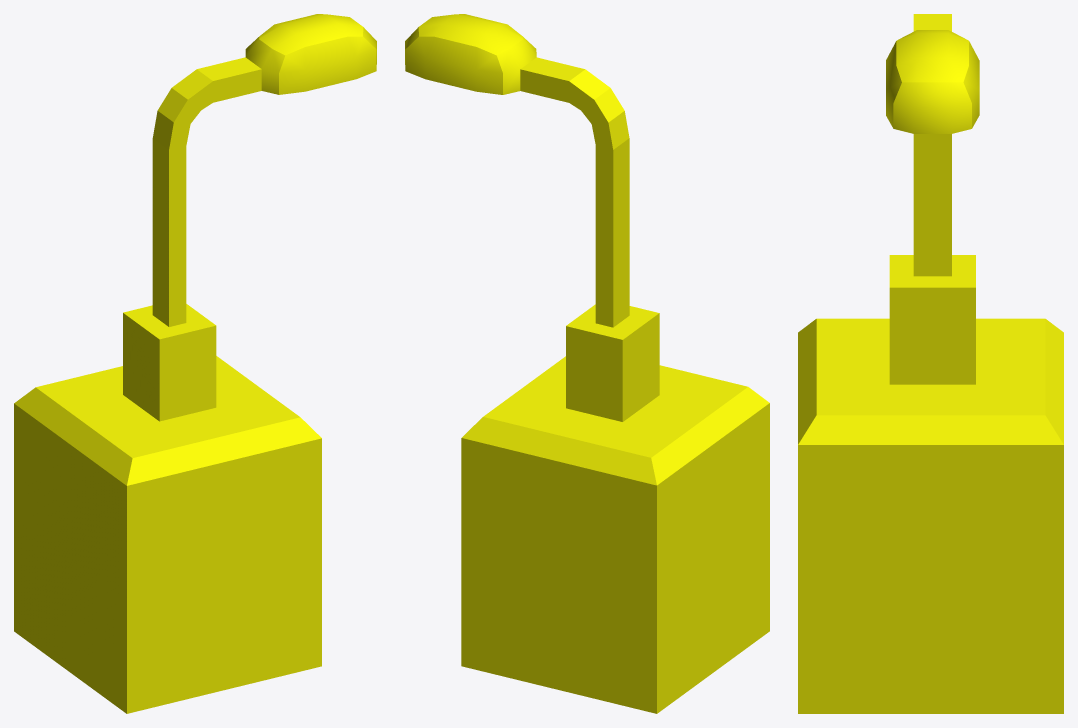
File: parking_obstacle02.glb
The picture shows the model from 3 angles, left to right: view 1: azimuth 30°, elevation 25°; view 2: azimuth 150°, elevation 25°; view 3: azimuth 270°, elevation 25°; orthographic projection. The views are drawn at different scales.
Visible parts, largest first — view 1: parking_obstacle02; view 2: parking_obstacle02; view 3: parking_obstacle02.
Boxes of the visible parts, <box> form: parking_obstacle02: <box>14,14,376,713</box>; parking_obstacle02: <box>405,14,769,713</box>; parking_obstacle02: <box>798,14,1063,713</box>.
Bounding box in the file's own units: 1.38 × 2.59 × 0.9.
Materials: 1 (1 with a texture image).
